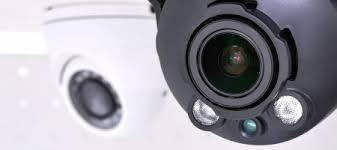maru: (150, 0, 332, 150)
